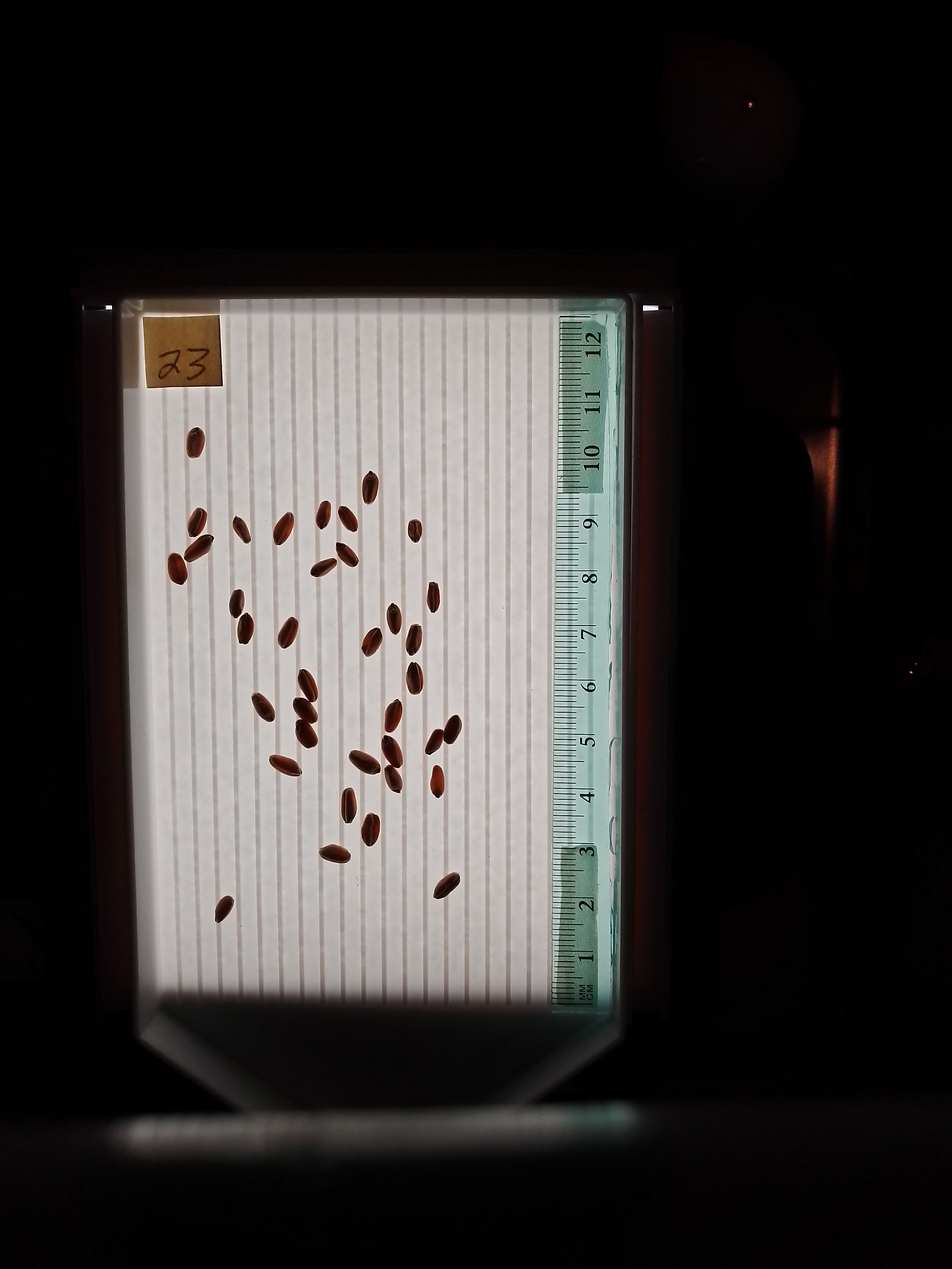seed mask: (184, 535, 213, 563), (349, 750, 380, 775), (270, 755, 301, 777), (434, 873, 460, 899), (273, 513, 294, 545), (361, 813, 380, 846), (167, 554, 187, 585), (278, 617, 298, 648), (382, 736, 402, 767), (296, 720, 318, 748), (253, 694, 275, 722), (361, 628, 383, 656), (320, 844, 350, 864), (294, 698, 318, 723), (298, 670, 318, 700), (187, 508, 207, 537), (186, 428, 205, 458), (385, 700, 402, 733), (443, 715, 462, 744), (362, 472, 379, 504), (341, 789, 357, 823), (406, 663, 423, 694), (336, 543, 357, 567), (311, 558, 336, 578), (430, 765, 445, 798), (237, 615, 254, 644), (215, 896, 233, 923), (233, 517, 251, 544), (384, 766, 402, 793), (406, 624, 422, 654), (338, 507, 357, 532), (425, 729, 443, 753), (316, 501, 331, 529), (387, 604, 401, 634), (230, 590, 244, 618), (427, 583, 440, 612), (408, 519, 422, 542)
